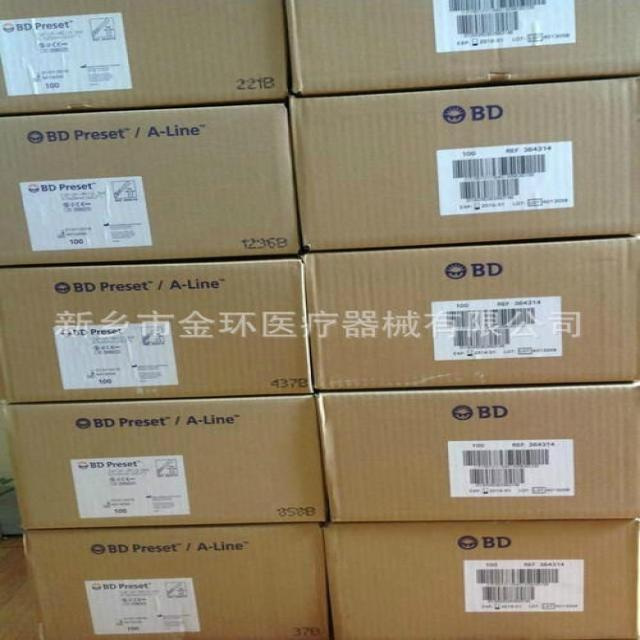box: (286, 75, 639, 256), (302, 234, 638, 391), (0, 100, 303, 266), (1, 390, 331, 529), (0, 256, 312, 402), (314, 382, 639, 521), (321, 518, 638, 638), (23, 522, 334, 638), (283, 0, 639, 99), (2, 1, 285, 114)
